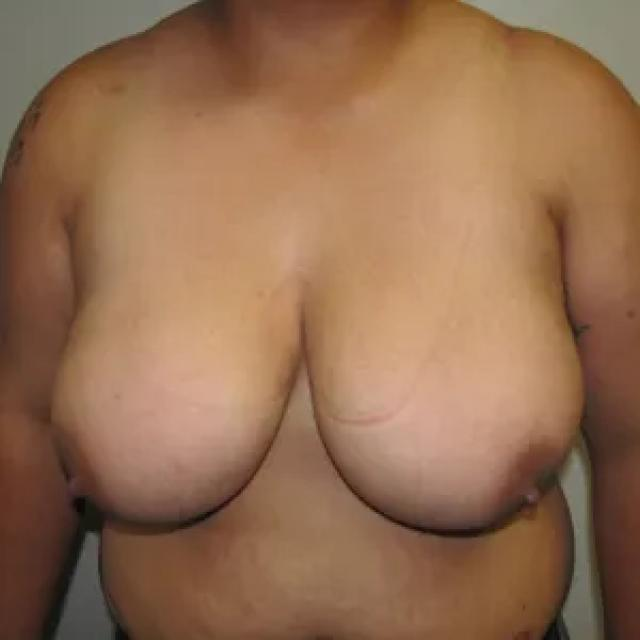Seno ileso: (305, 222, 595, 552), (40, 222, 301, 545)
